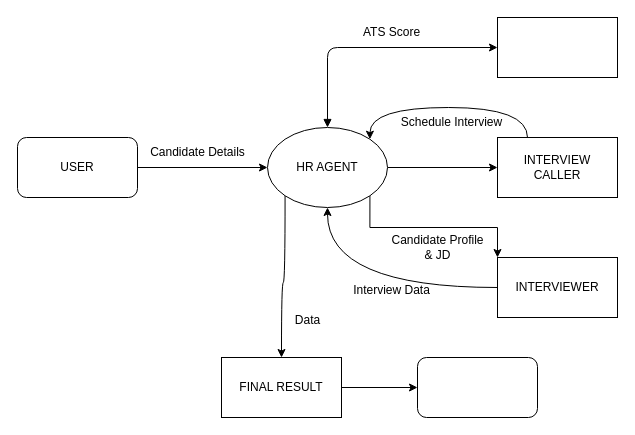
Some shapes in this 635 by 435 pixel diagram are drawn without their labels. The centre of each missing label's shape, as x and y in pixels:
"Exit" goes at [477,387].
"RESUME ANALYZER" goes at [557,47].
